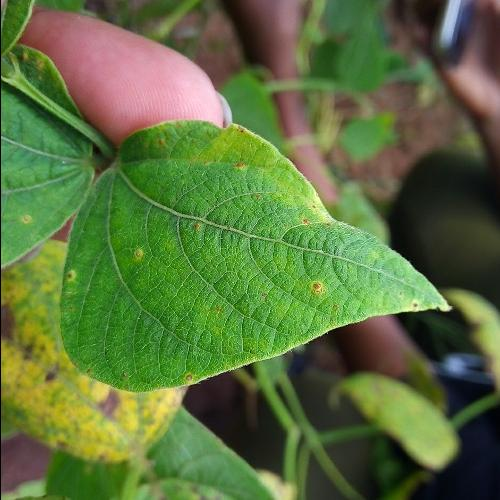hawar: (51, 201, 366, 387)
